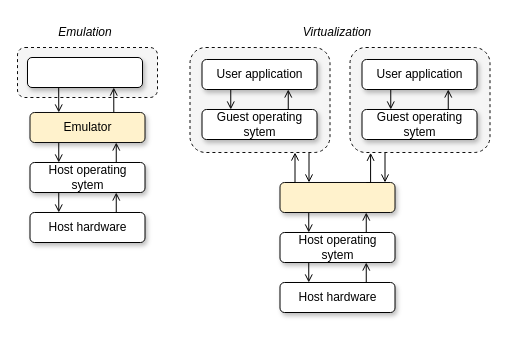
This 508x337 diagram has some shape labels left out. Each missing label, with the centre of its shape:
"Emulated applicaton" belongs at point (85, 73).
"Hypervisor" belongs at point (338, 199).
